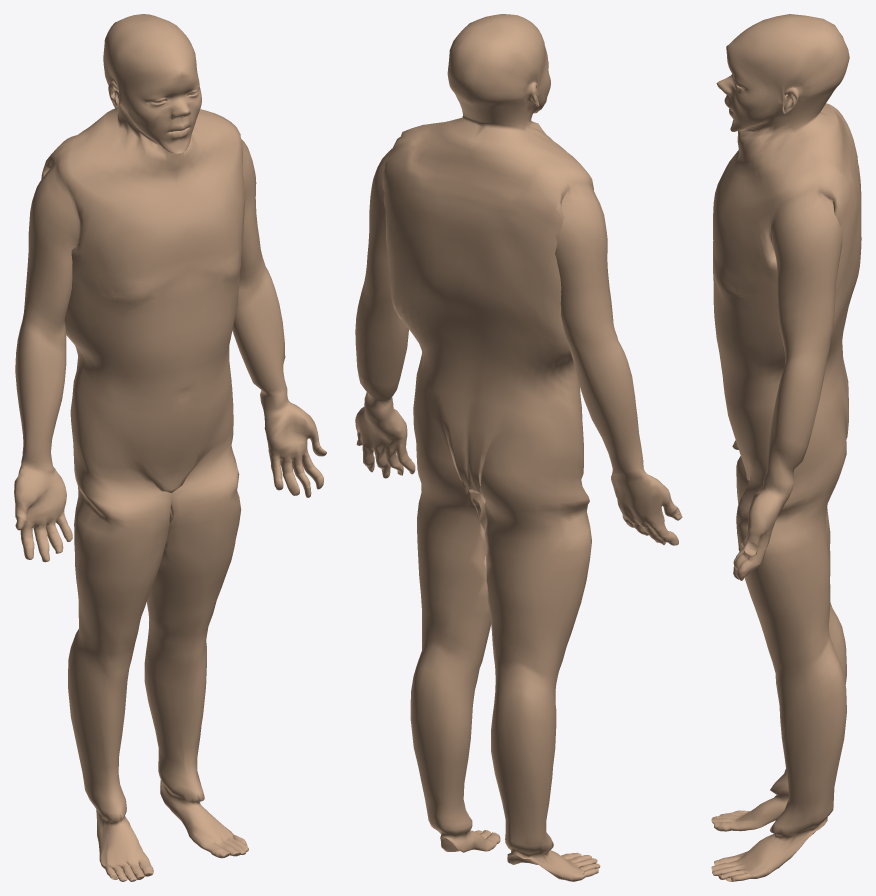
Rendered from skin-candidate-r40.glb.
3 renders of one model, left to right at view 1: azimuth 30°, elevation 25°; view 2: azimuth 150°, elevation 25°; view 3: azimuth 270°, elevation 25°, orthographic. The views are drawn at different scales.
Parts seen in each view (by area): view 1: MakeHuman_AT10_skin_fit_candidate_r40; view 2: MakeHuman_AT10_skin_fit_candidate_r40; view 3: MakeHuman_AT10_skin_fit_candidate_r40.
Part boxes in pixels (x1,y1,x2,y2): MakeHuman_AT10_skin_fit_candidate_r40: (14,14,326,881); MakeHuman_AT10_skin_fit_candidate_r40: (355,14,682,881); MakeHuman_AT10_skin_fit_candidate_r40: (711,14,861,881).
Size of the model in its own units: 0.674 by 1.71 by 0.28.
